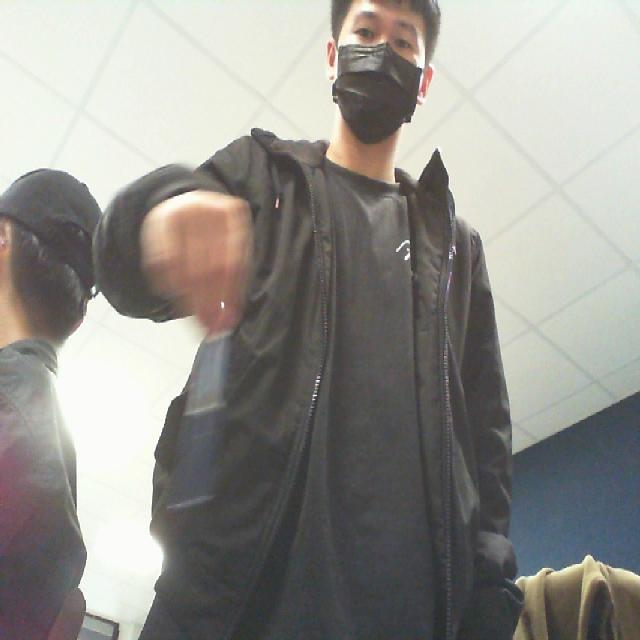Pen: (167, 334, 245, 528)
